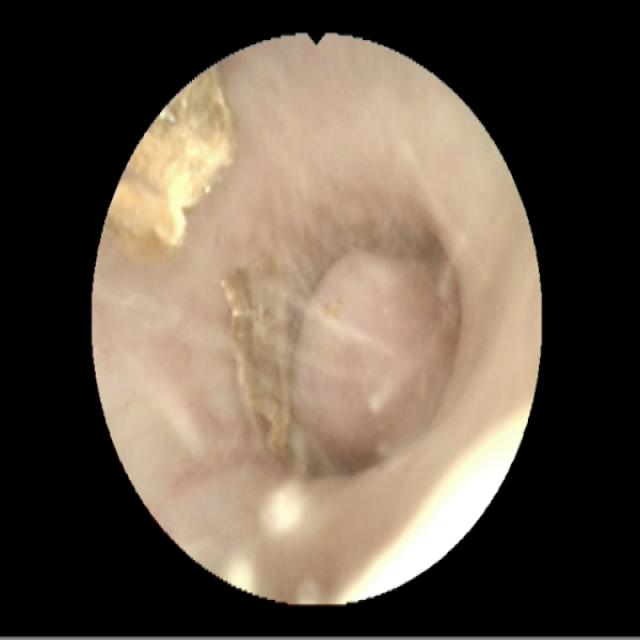stone: (109, 73, 233, 268), (222, 262, 293, 461)
tissue: (97, 42, 529, 593)
